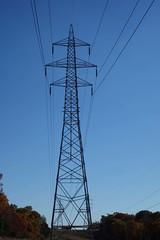power_tower: (43, 19, 104, 233)
